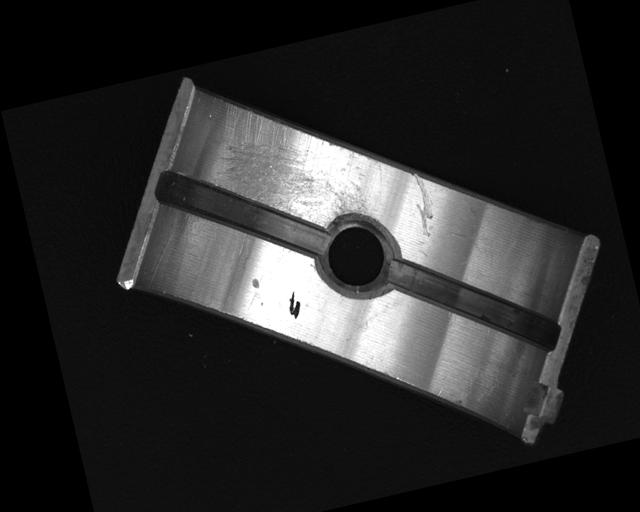blot: (285, 289, 305, 321)
bruise: (249, 274, 262, 291)
gap: (383, 228, 562, 380), (151, 143, 327, 284)
hole: (308, 208, 404, 303)
nick: (406, 170, 440, 238)
scratch: (208, 73, 376, 247)
